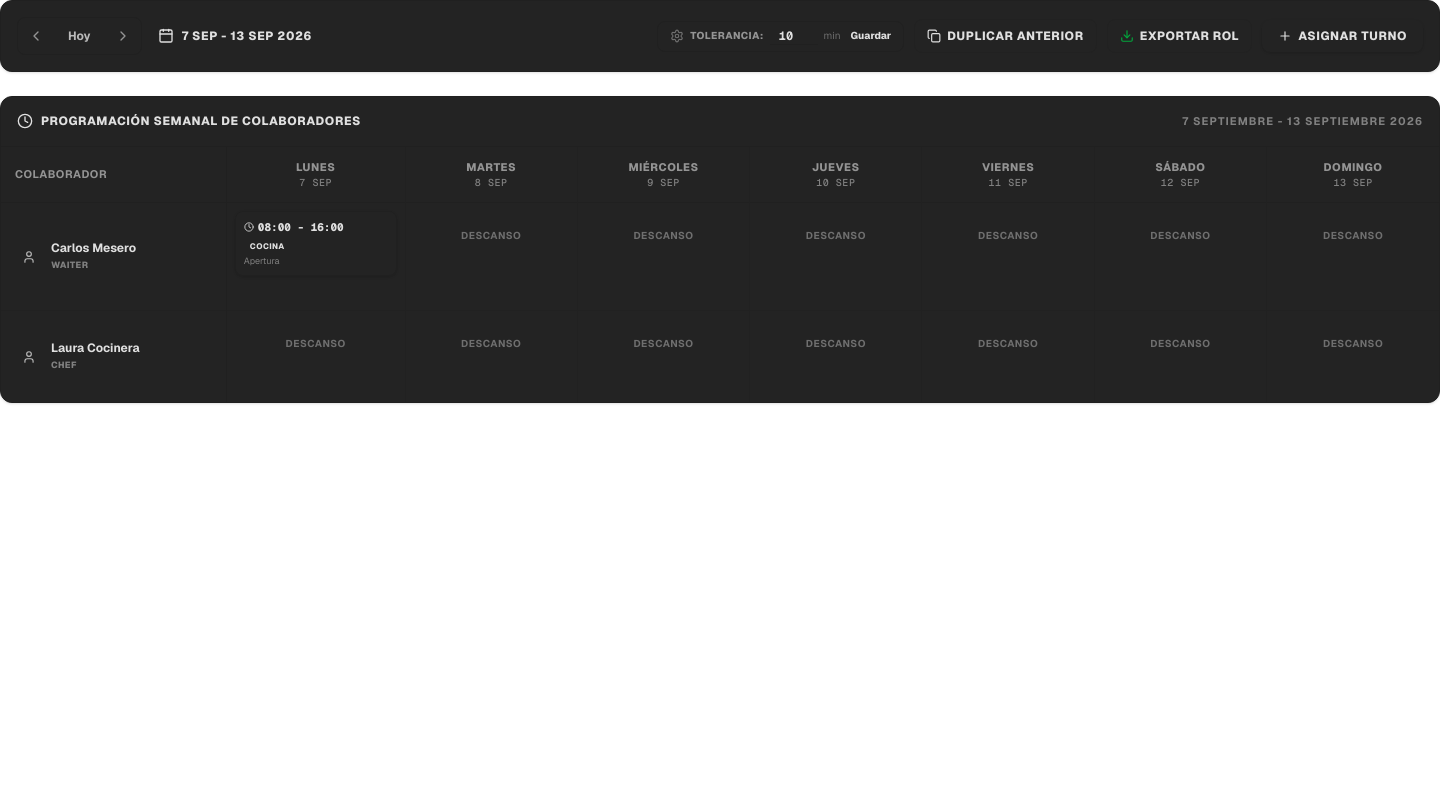
Scenario: WeeklyShiftPlanner Component › opens ShiftModal for editing when clicking an existing shift card and handles save and delete
Note: Click on shift card
Click the text "08:00 - 16:00": (301, 227) x1=258 y1=220 x2=344 y2=235
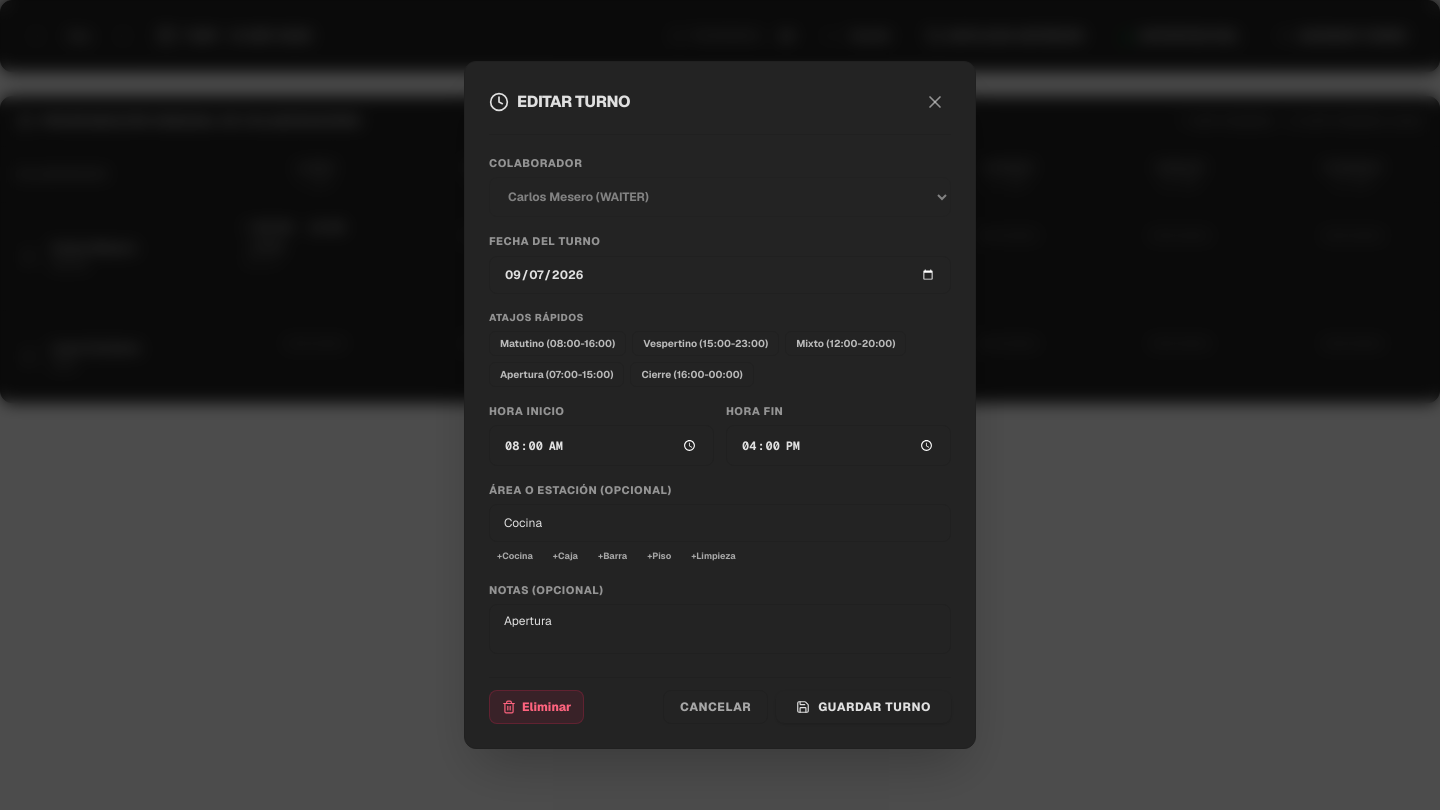
Check: the heading "Editar Turno" is shown, box x1=517 y1=90 x2=630 y2=114
Note: Save shift
Click the button "Guardar Turno": (864, 707) x1=776 y1=691 x2=951 y2=723
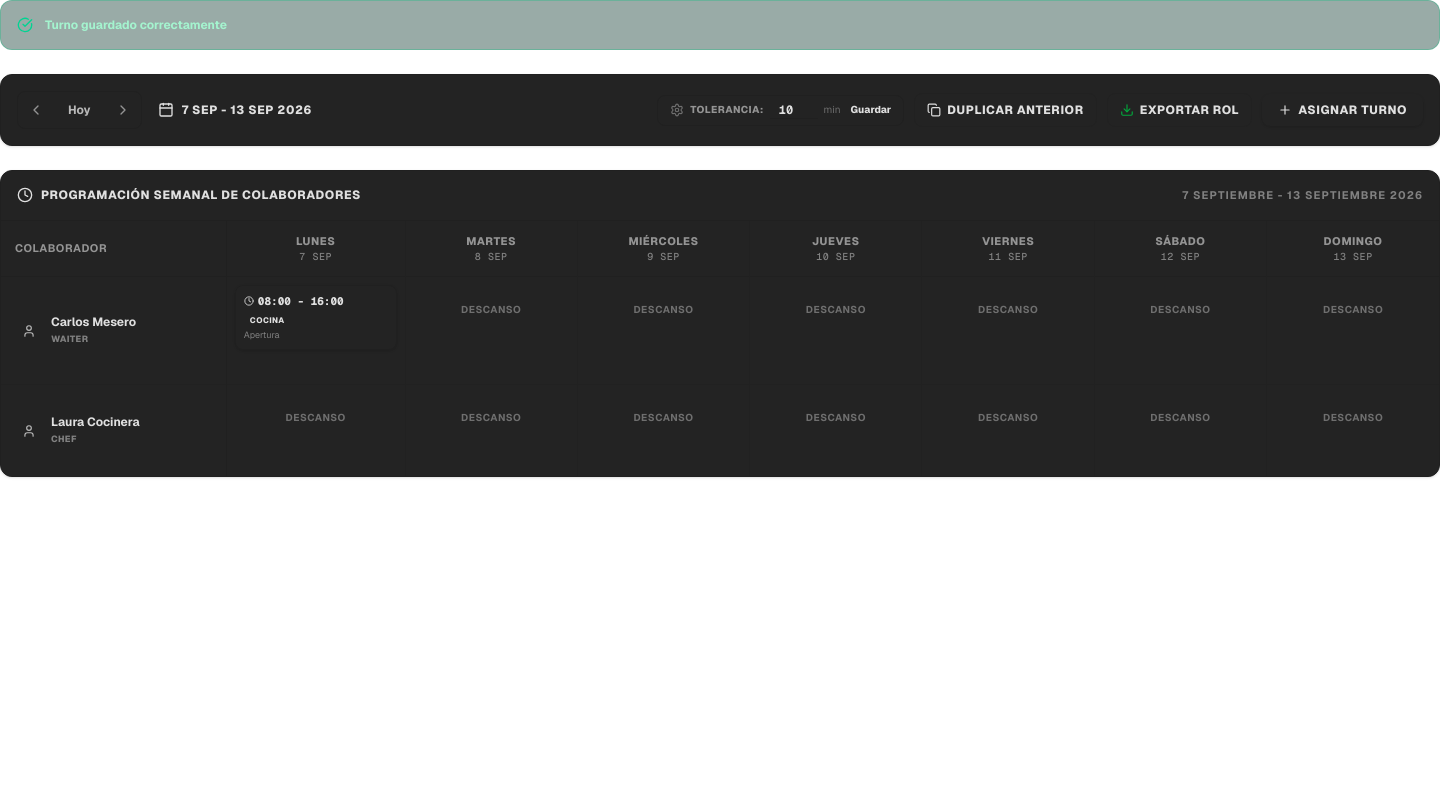
Check: the text "Turno guardado correctamente" is shown, box x1=45 y1=17 x2=227 y2=33
Note: Open and delete
Click the text "08:00 - 16:00": (301, 301) x1=258 y1=294 x2=344 y2=309
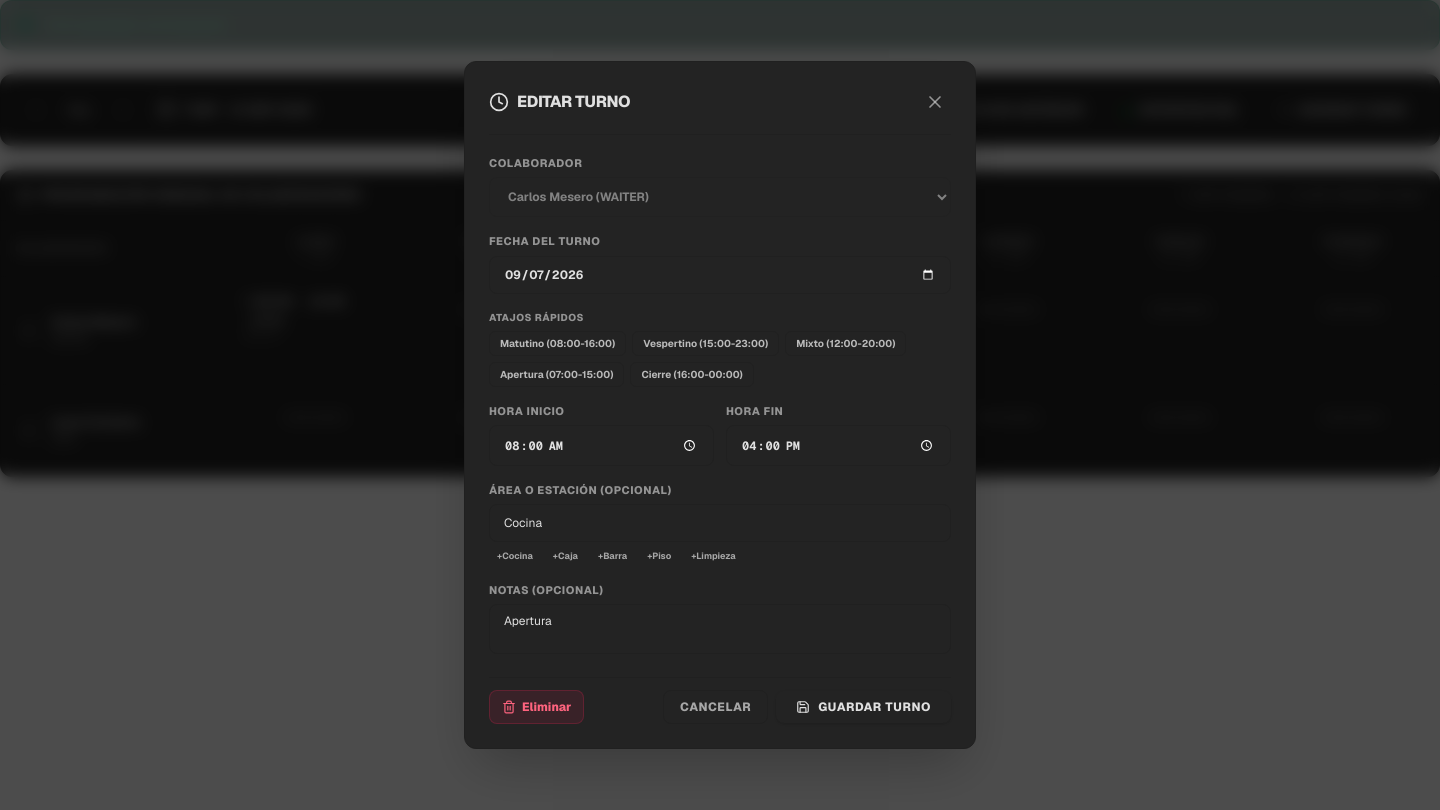
Click the button "Eliminar": (537, 707) x1=489 y1=690 x2=584 y2=724
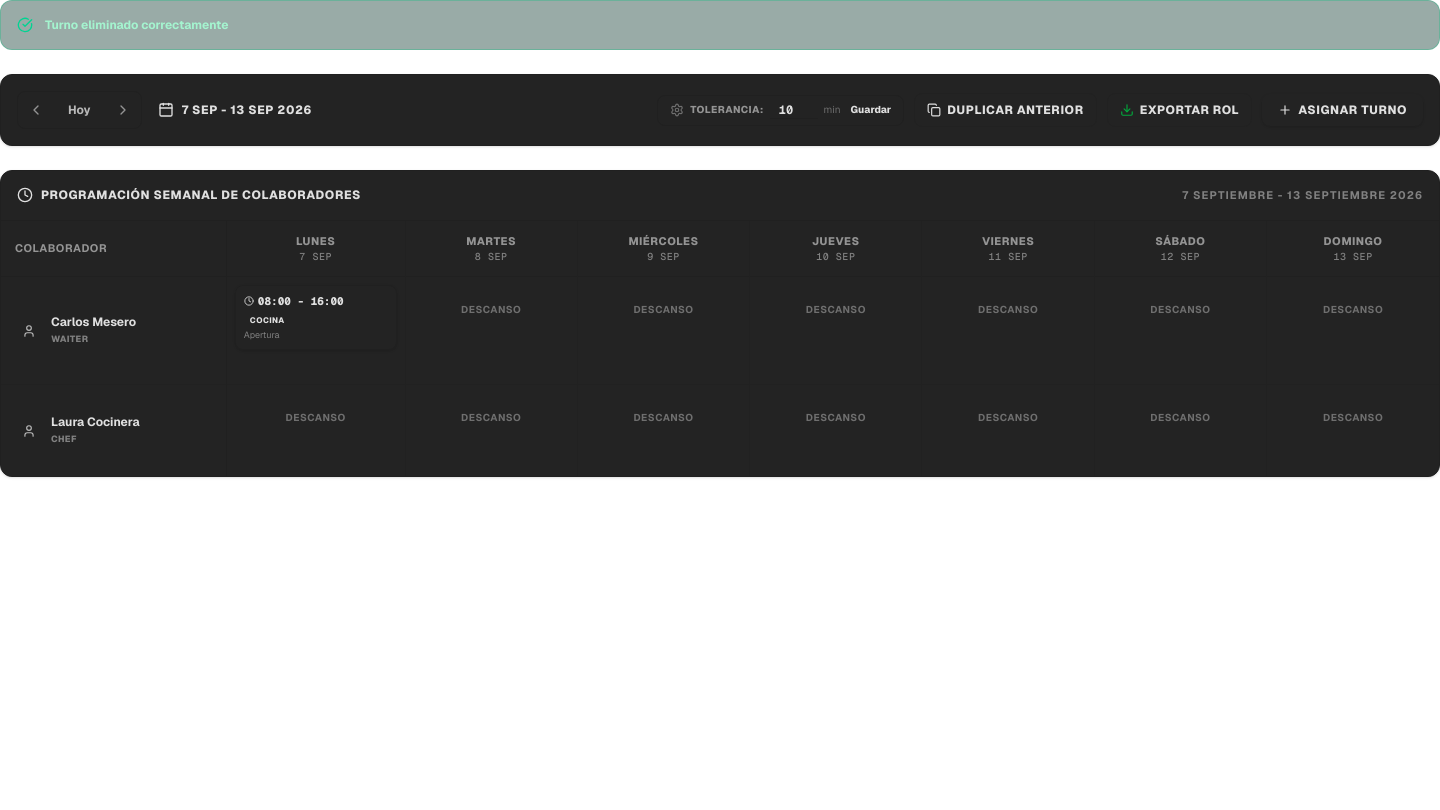
Check: the text "Turno eliminado correctamente" is shown, box x1=45 y1=17 x2=228 y2=33
